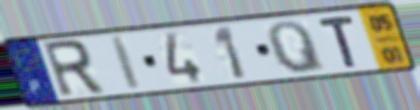1: (210, 24, 249, 82)
4: (164, 30, 206, 86)
I: (108, 34, 145, 92)
Q: (265, 19, 330, 76)
R: (39, 37, 109, 101)
T: (314, 13, 360, 69)
